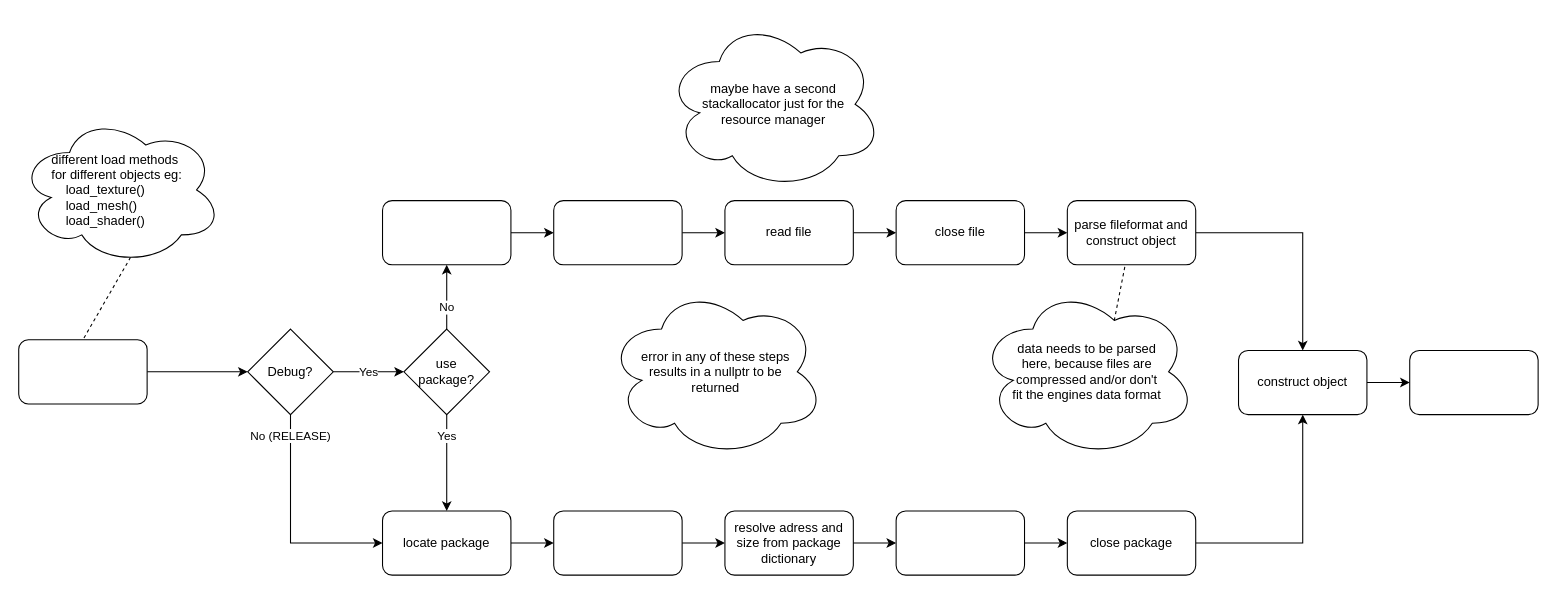
Image size: 1557x594. Some labels were removed from this diagram. The centre of each missing label's shape, as x and y in pixels:
"load(sid)" goes at pixel 82 371.
"open file" goes at pixel 617 232.
"open package" goes at pixel 617 542.
"read and copy data" goes at pixel 960 542.
"resolve path from sid" goes at pixel 446 232.
"return object" goes at pixel 1473 382.
